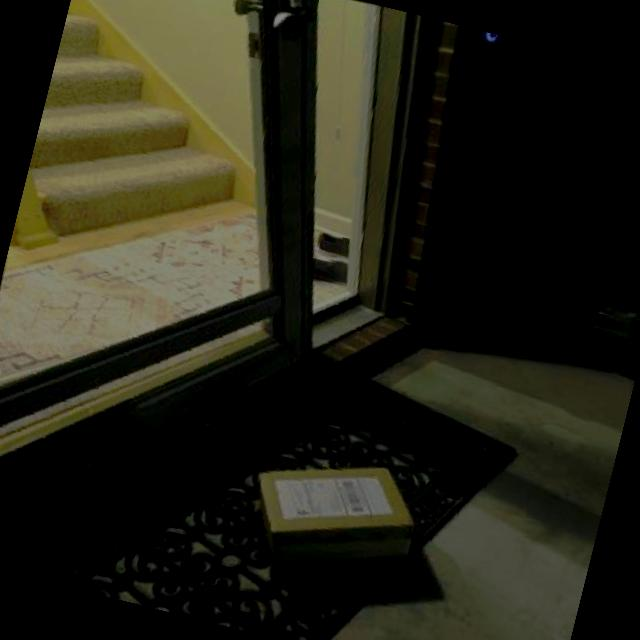Box: (236, 436, 432, 601)
